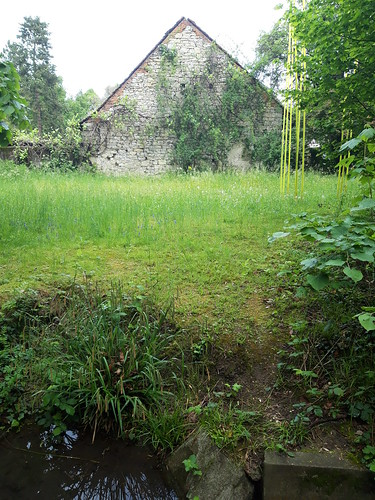building: (80, 15, 299, 183)
grass: (1, 164, 342, 311)
tree: (1, 1, 70, 141)
